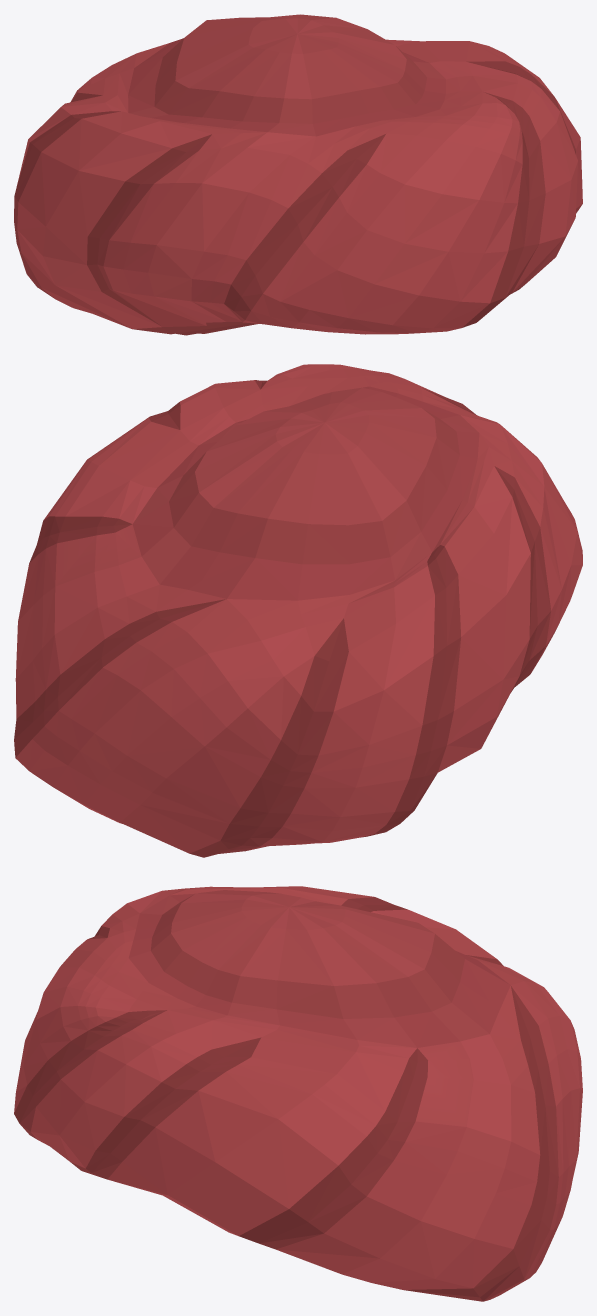
File: turbanFemale.glb
The picture shows the model from 3 angles, top to bottom: view 1: azimuth 30°, elevation 25°; view 2: azimuth 150°, elevation 25°; view 3: azimuth 270°, elevation 25°; orthographic projection. The views are drawn at different scales.
Parts seen in each view (by area): view 1: turban; view 2: turban; view 3: turban.
Boxes of the visible parts, left/top/right/bottom form: turban: left=14, top=14, right=582, bottom=335; turban: left=14, top=364, right=582, bottom=857; turban: left=14, top=886, right=582, bottom=1301.
Size of the model in its own units: 0.319 by 0.219 by 0.3345.
